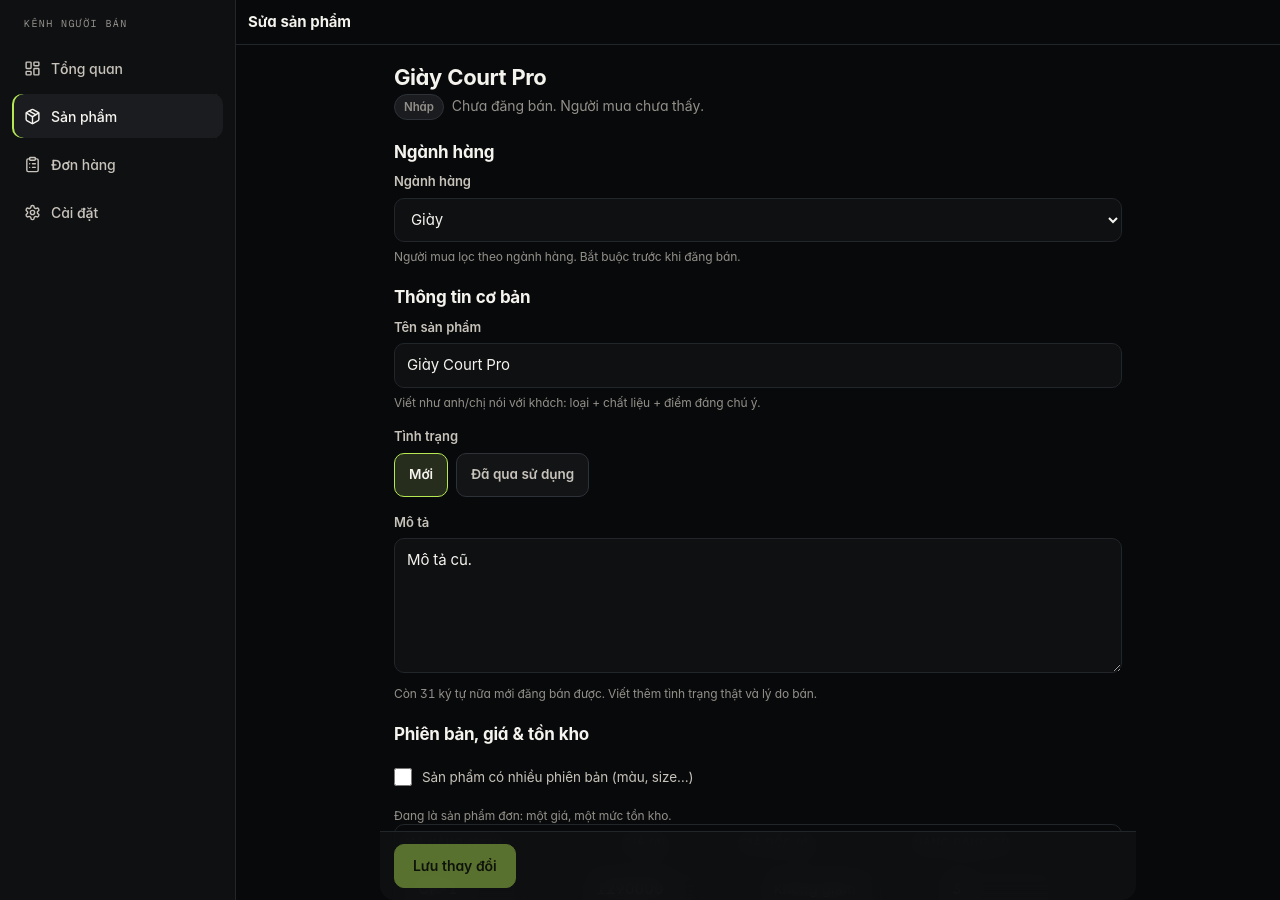
Test: no save branch can strand the button on Đang lưu… › keeps what the seller typed through the failure
This screenshot has width=1280, height=900.
Replace the text in the field labelled "Tên sản phẩm" with "Tên chưa lưu được" at coordinates (758, 365), box [394, 343, 1122, 388]
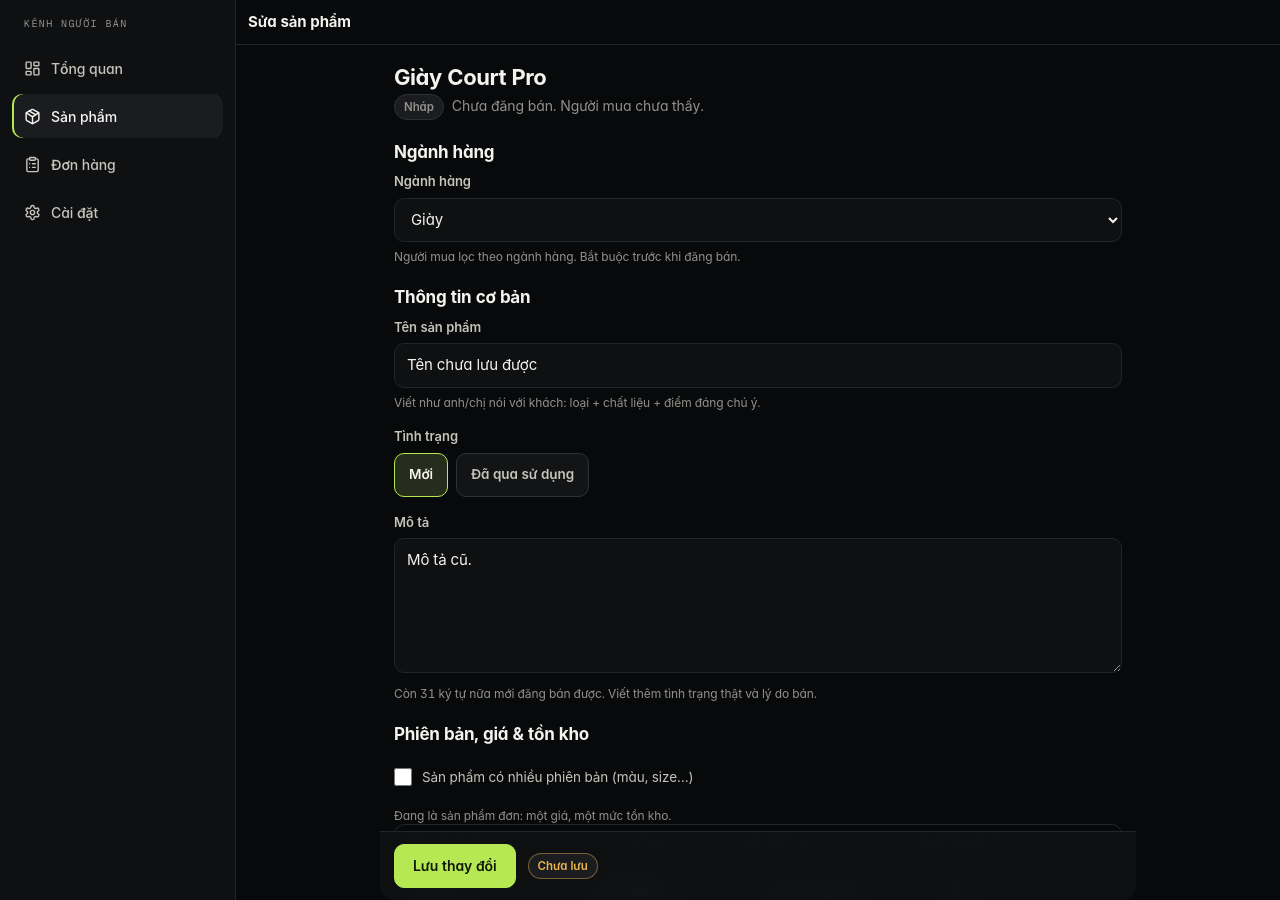
Click the button "Lưu thay đổi" at coordinates (455, 866), box [394, 844, 516, 888]
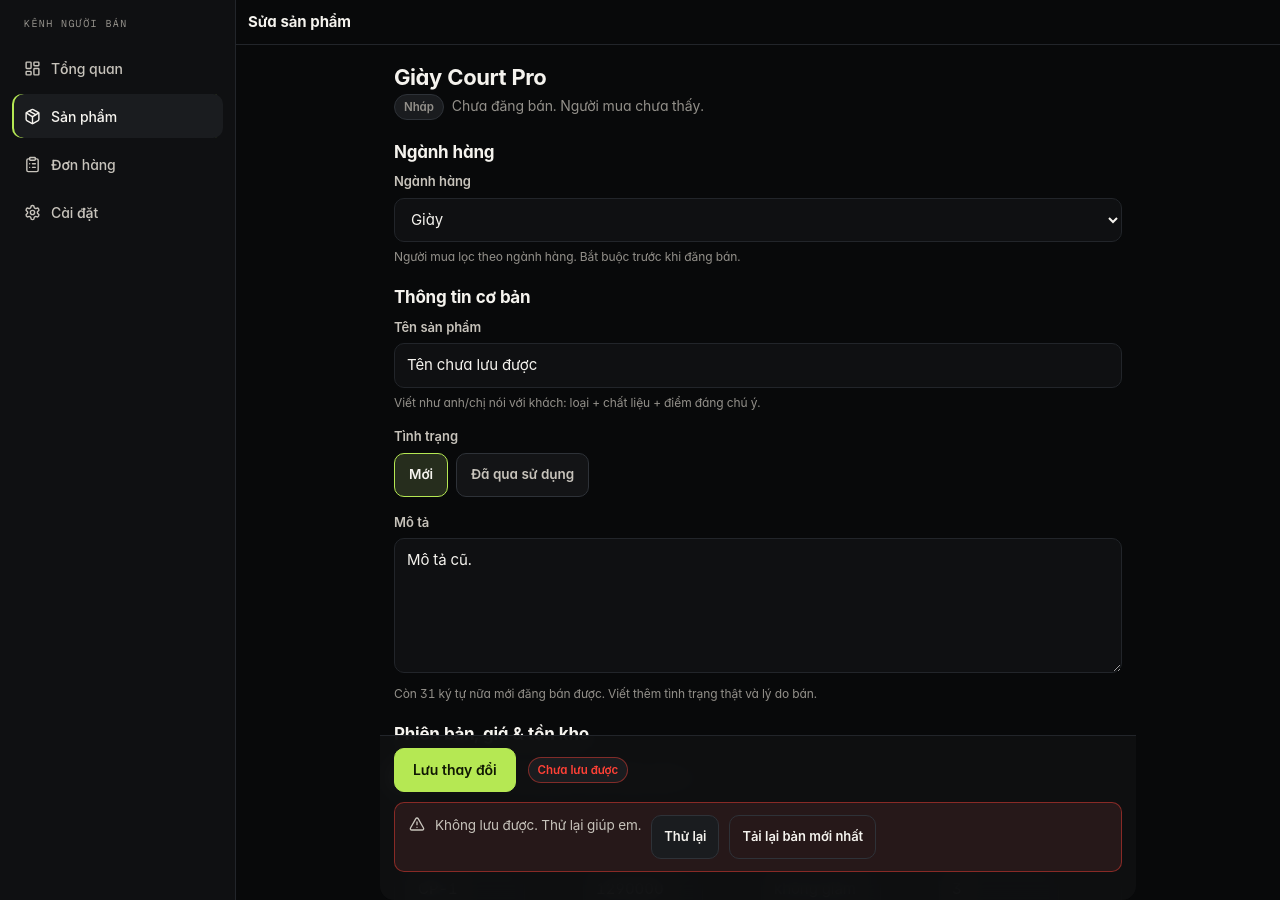
Expected: the text "Chưa lưu được" is shown, [528, 757, 628, 783]
